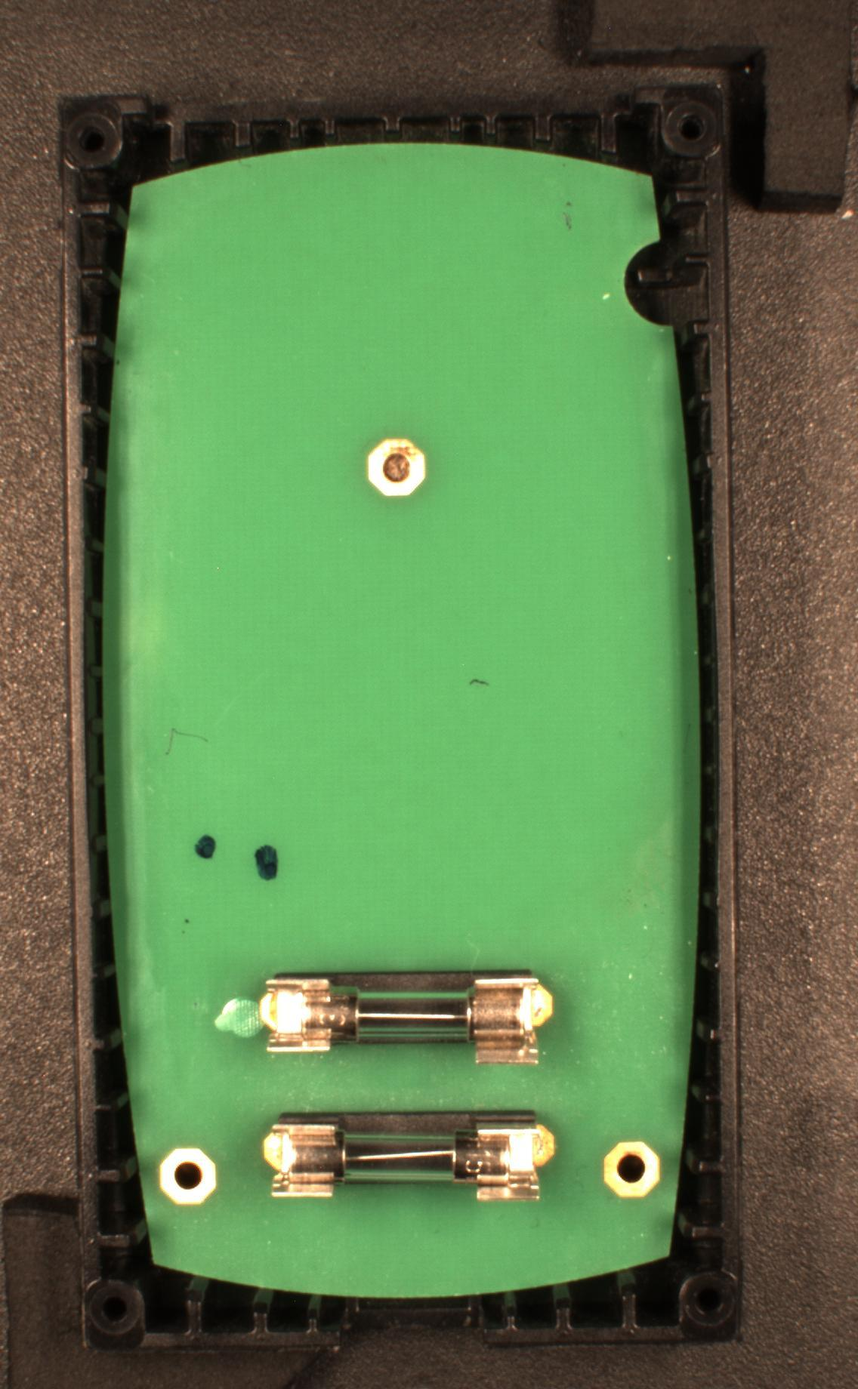Tockasto Ostecenje: (254, 842, 279, 881), (193, 834, 217, 861)
